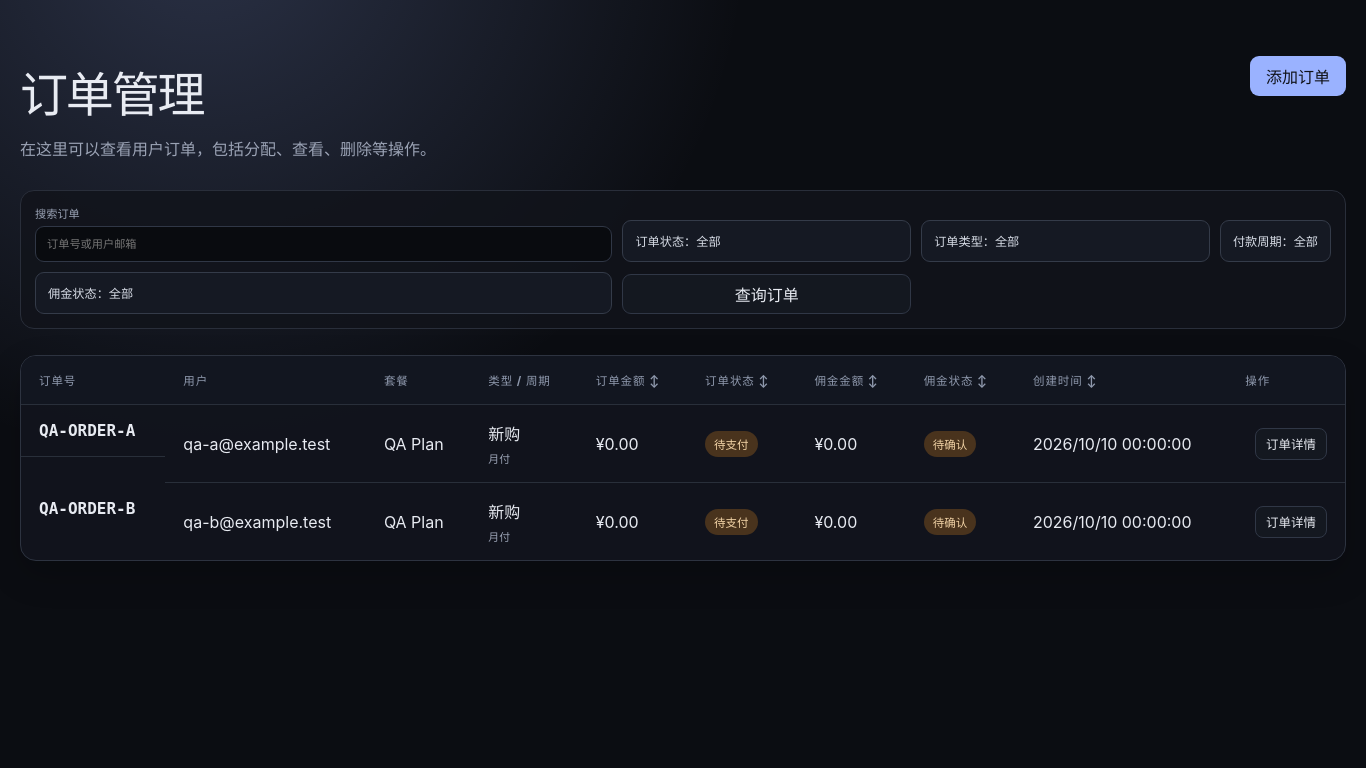
Scenario: administrator order detail request lifetime › keeps old action responses out of the dialog but synchronizes the list (reopen=true)
What coordinates should you click on to do the following:
click the button "订单详情" in the row of "QA-ORDER-A"
I would click on:
 (1291, 444)
Its box is [1255,428,1327,460].
(page scrolled)
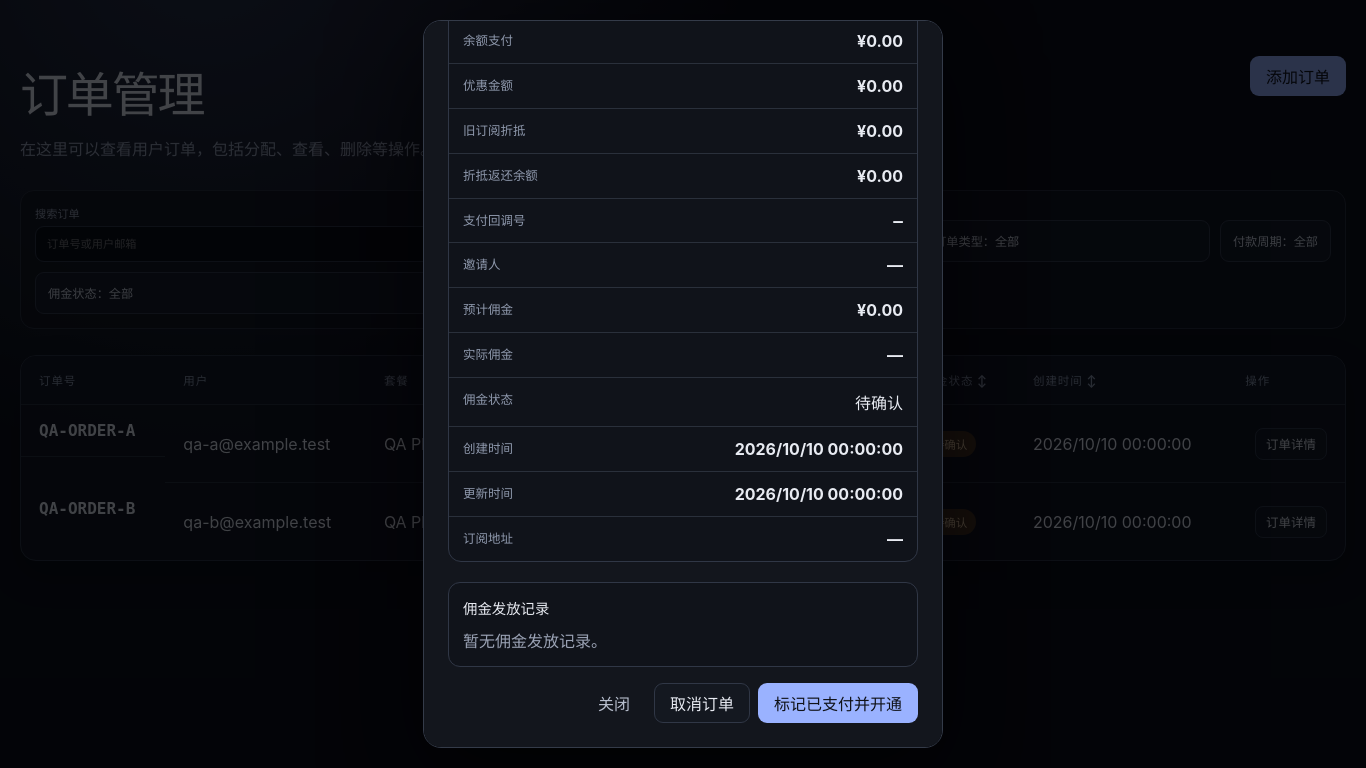
What coordinates should you click on to do the following:
click the button "取消订单"
I would click on:
 (702, 703)
Its box is [654,683,750,723].
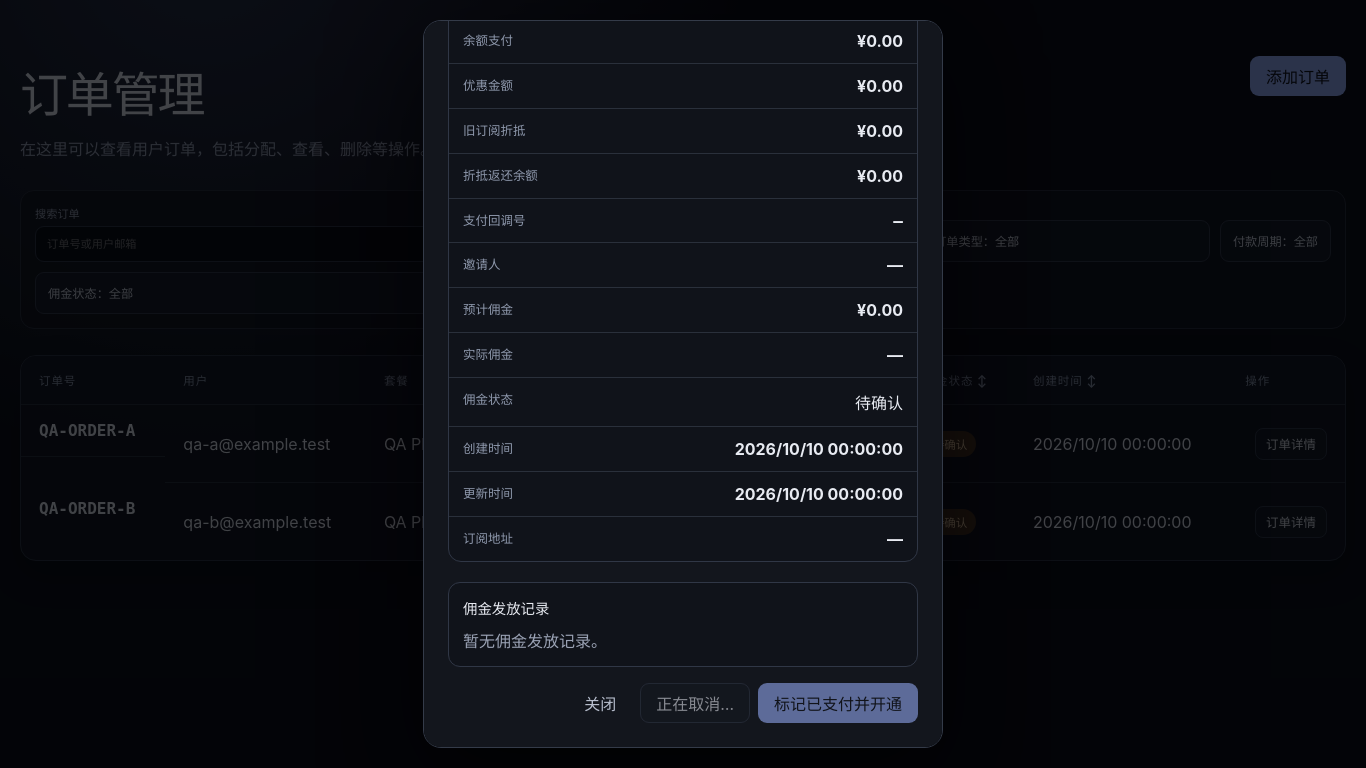
What coordinates should you click on to do the following:
click the button "关闭"
I would click on:
 (600, 703)
Its box is [568,683,632,723].
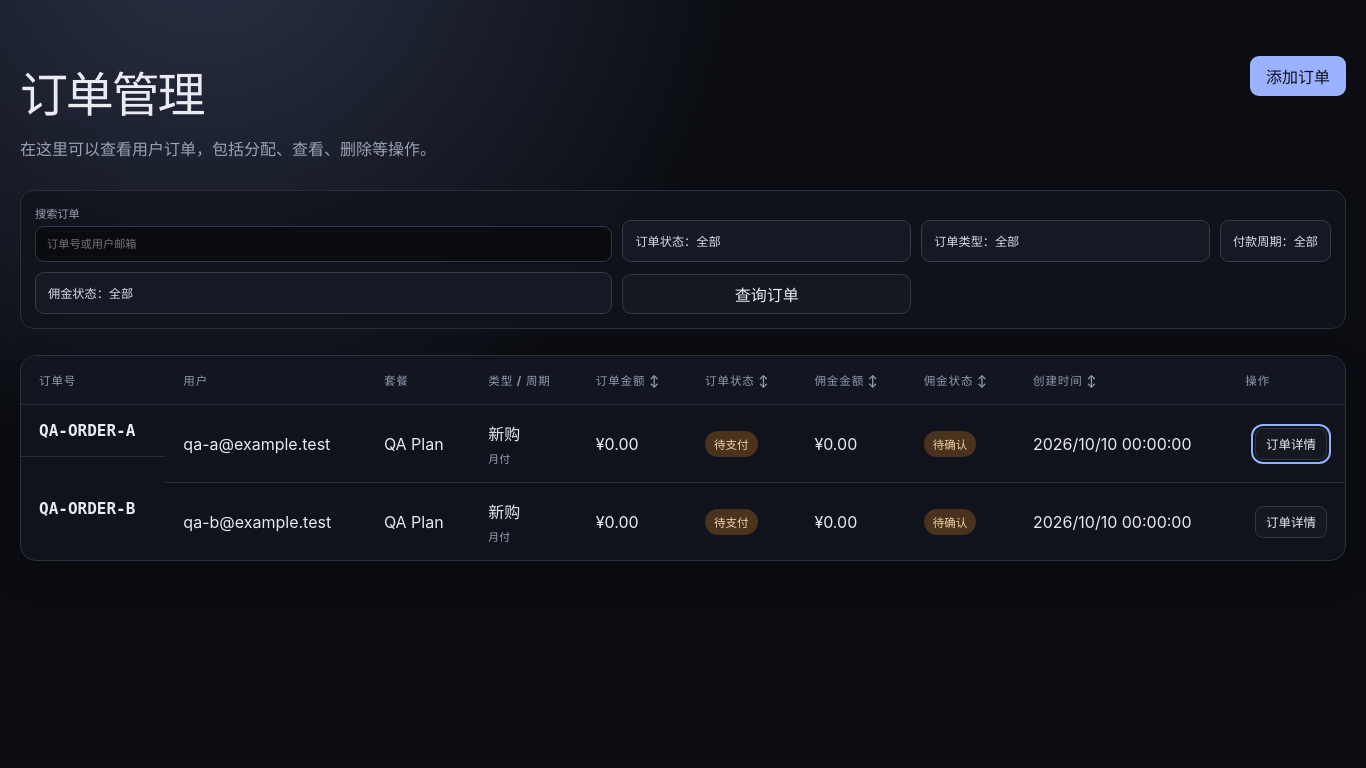
What coordinates should you click on to do the following:
click the button "订单详情" in the row of "QA-ORDER-A"
I would click on:
 (1291, 444)
Its box is [1255,428,1327,460].
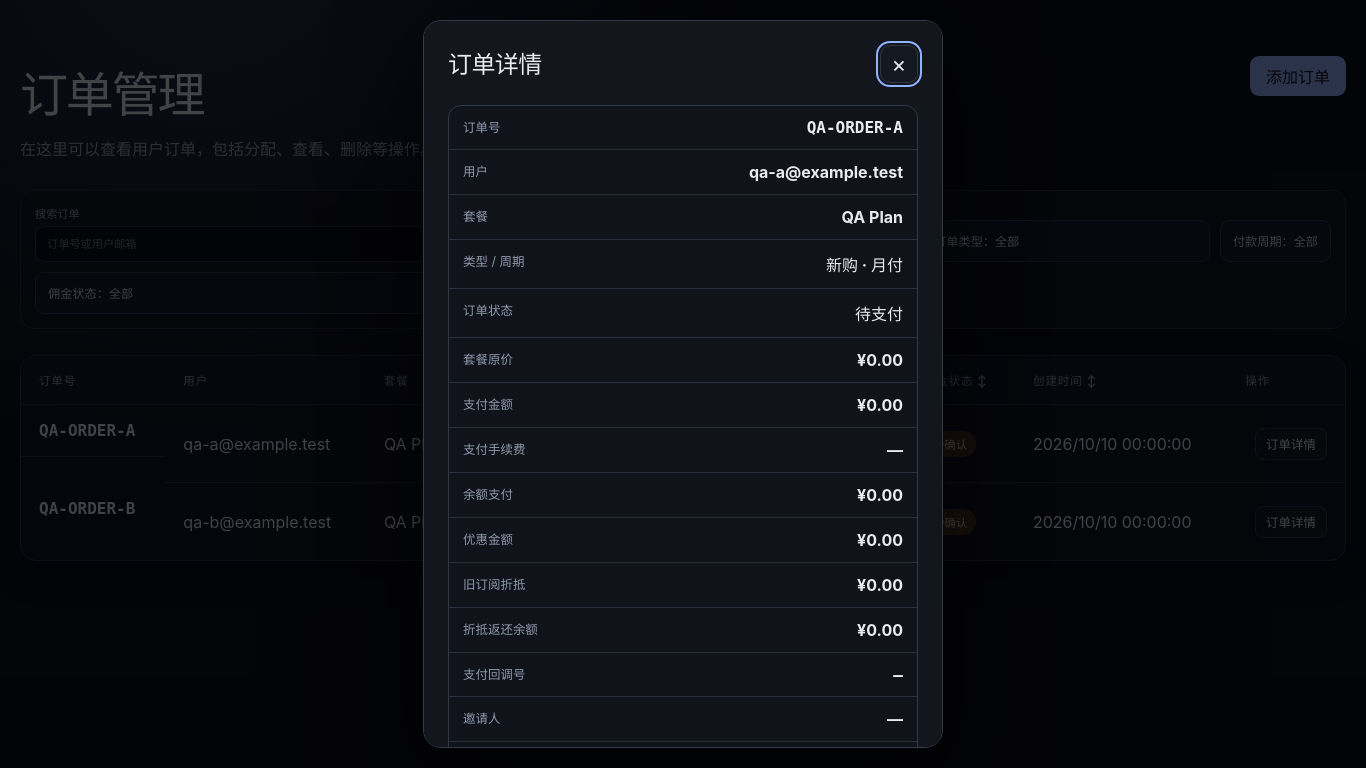
Expected: the text "待支付" is shown, [855,304,903,324]
Expected: the dialog "订单详情" is shown, [423,20,943,748]
